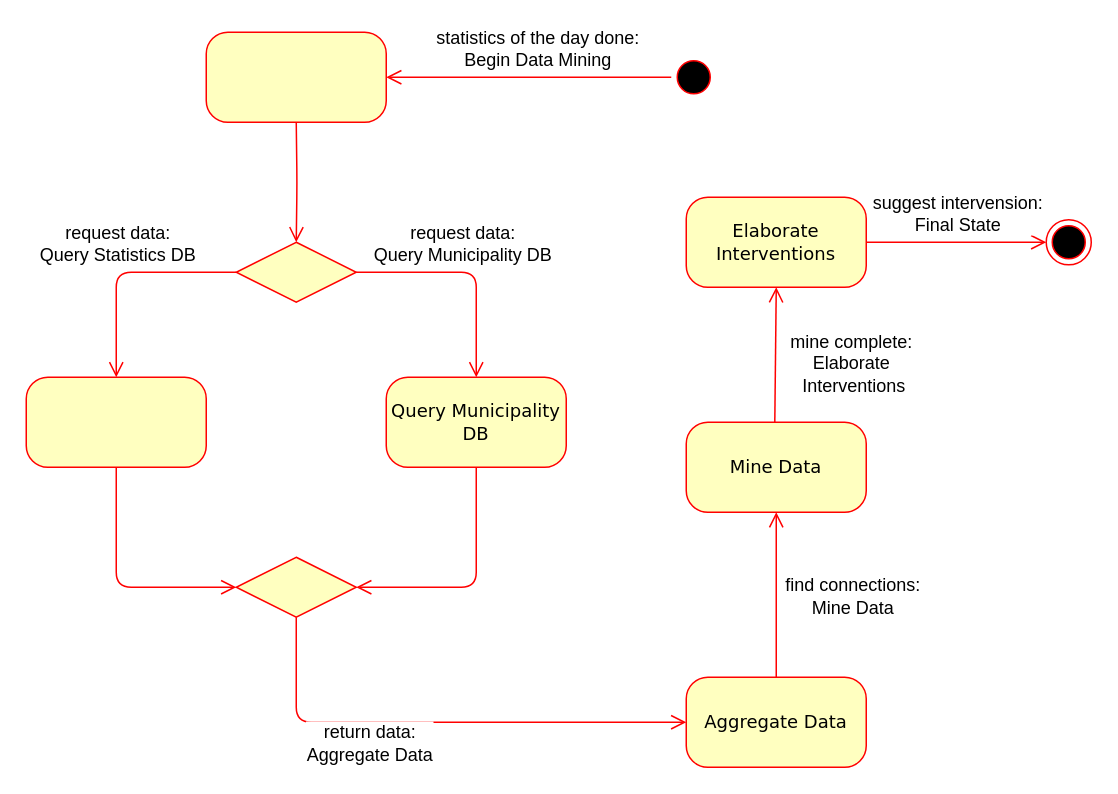
Image size: 1118x794. Some labels were removed from this diagram. The centre of each missing label's shape, as x and y in pixels:
Begin Data Mining: the point at 295,76
Query Statistics DB: the point at 115,421
